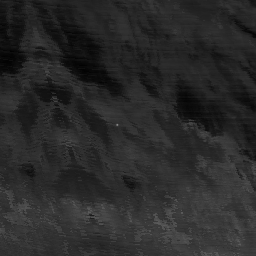Target: (114, 122, 119, 127)
